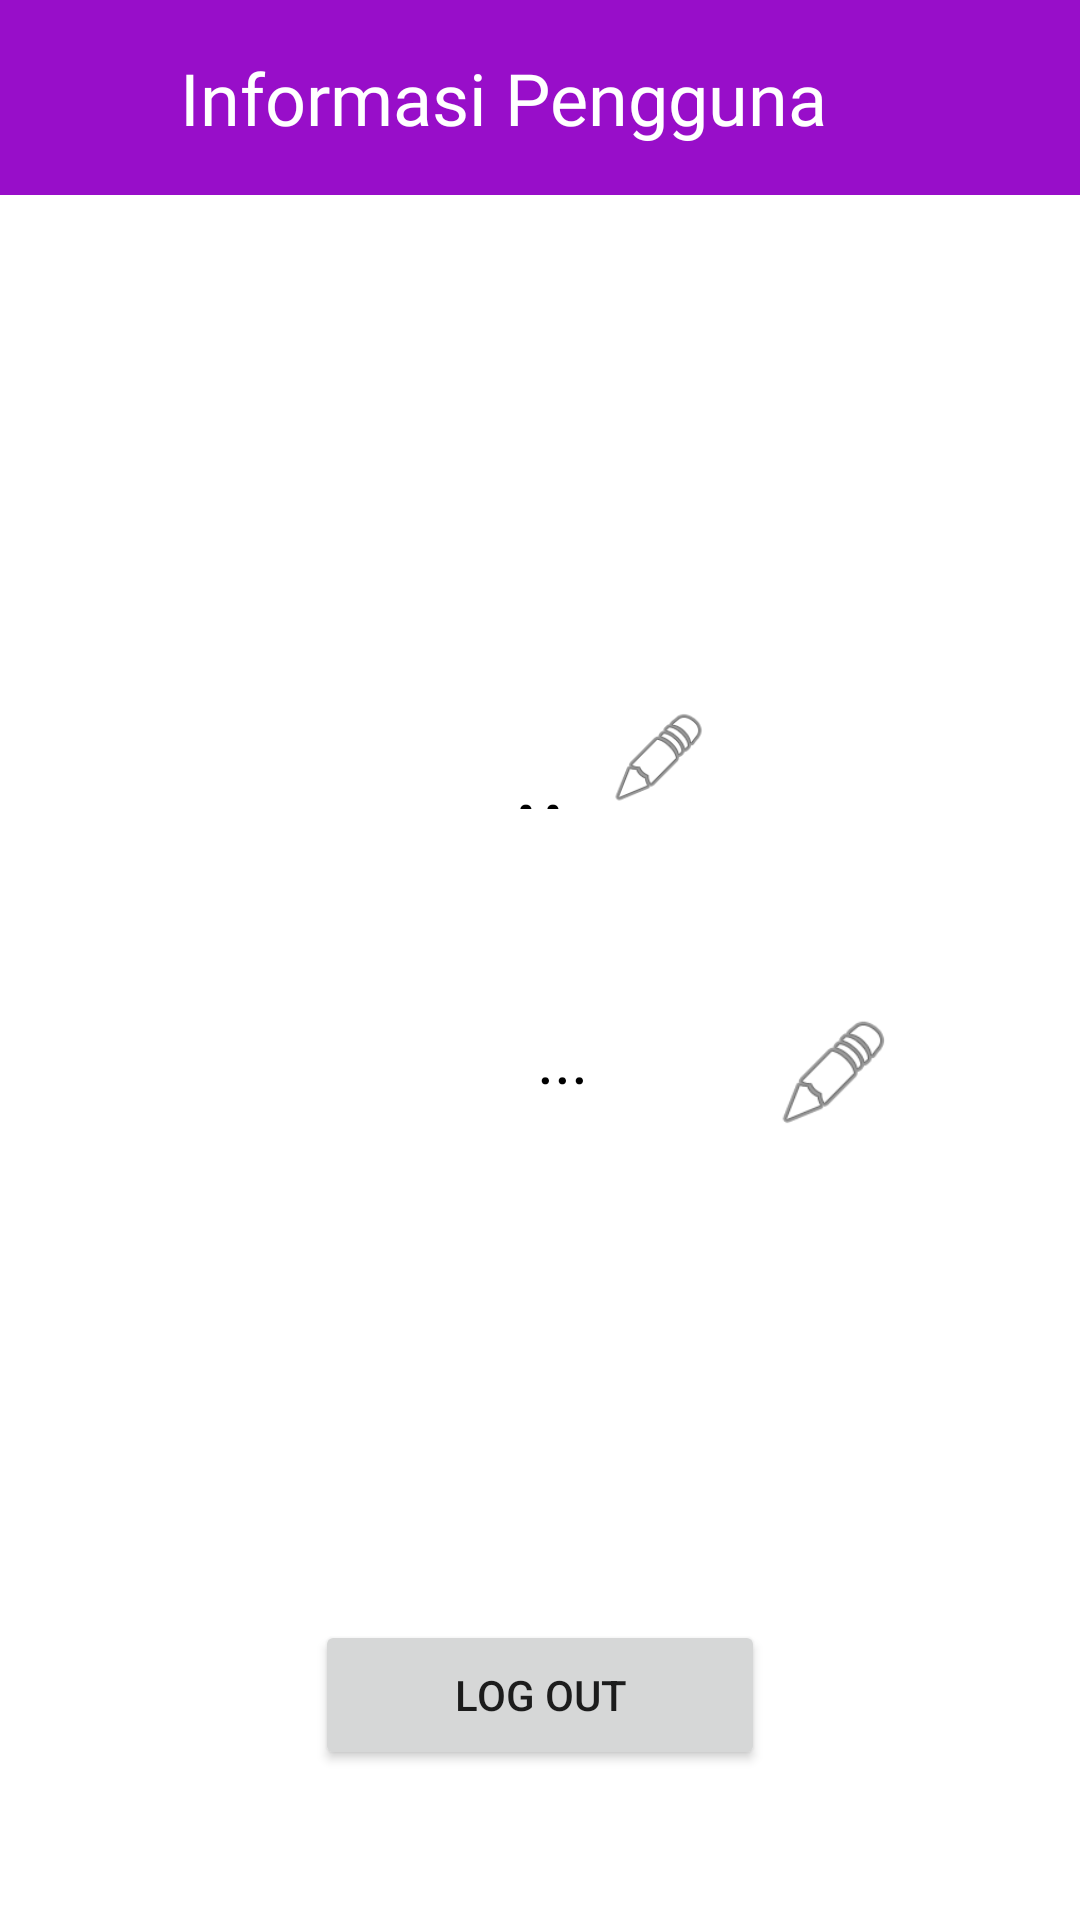

Icons on this 1080w x 1920h Android screen, each with the point to tap as (x,y):
edit: (658,757), (833,1072)
